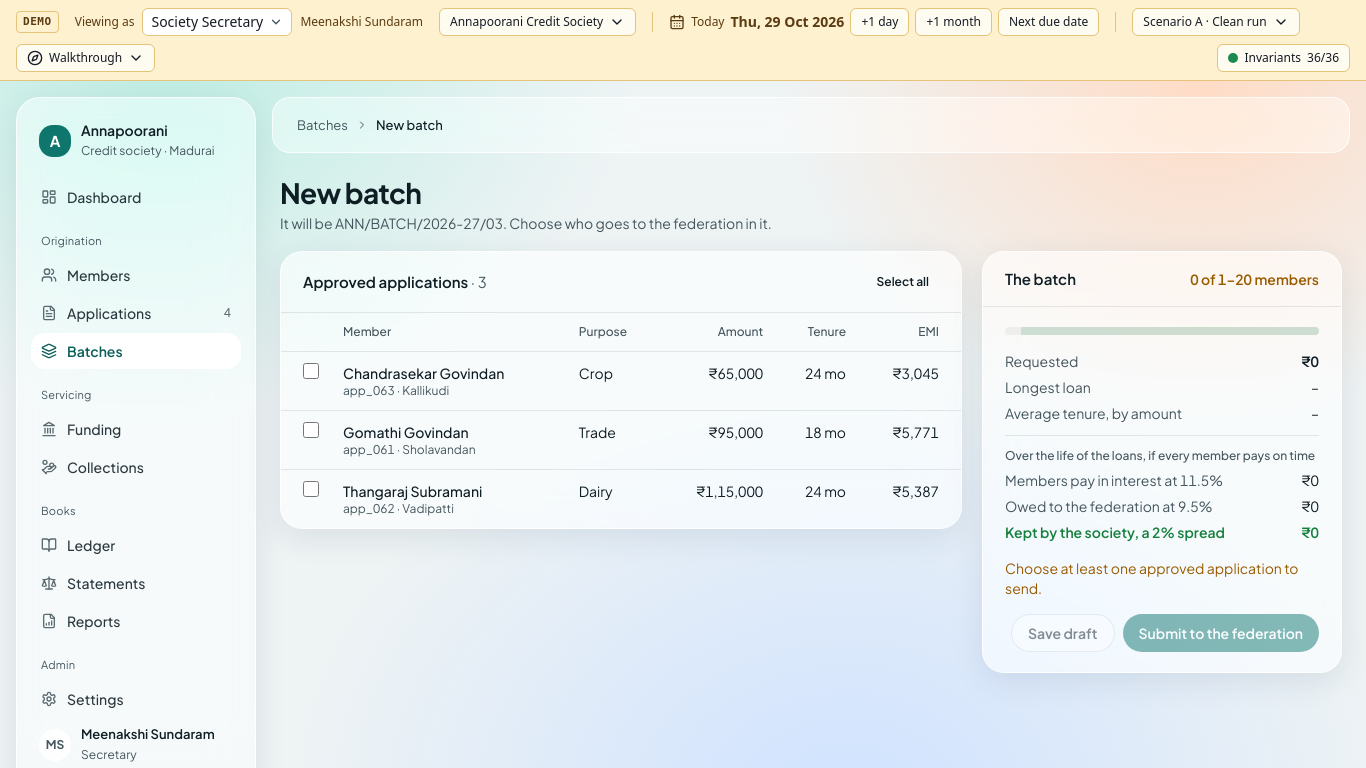
Test: the batch builder › sends a batch of a single member, and only an empty one is held back
The image size is (1366, 768).
Expected: the text "Choose at least one approved application to send." is shown, [1005, 558, 1319, 598]
Expected: the button "Submit to the federation" is disabled, [1122, 614, 1319, 652]
What coordinates should you click on to do the following:
click the checkbox named "Include Gomathi Govindan"
I would click on:
 (311, 430)
Its box is [303, 422, 319, 438].
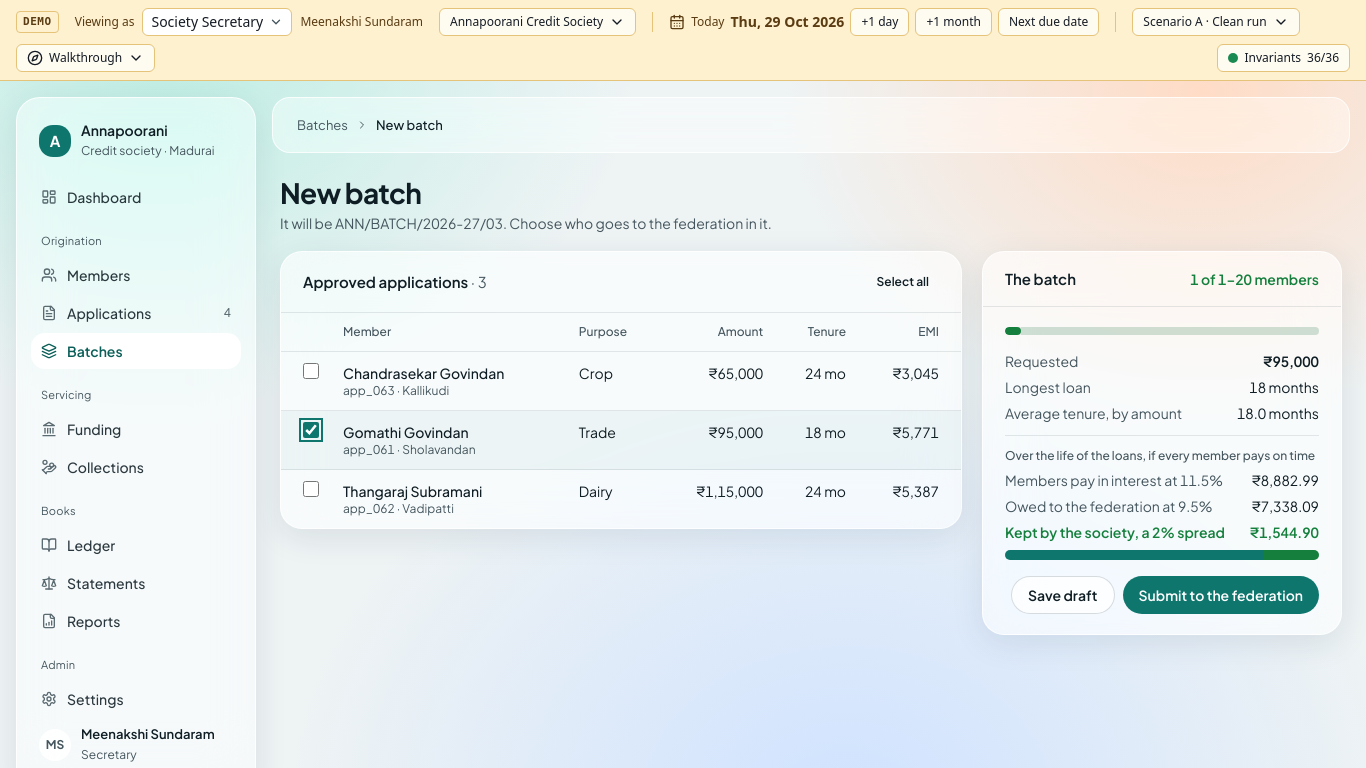
Expected: the text "1 of 1–20 members" is shown, [1190, 269, 1319, 289]
Expected: the button "Submit to the federation" is enabled, [1122, 576, 1319, 614]
